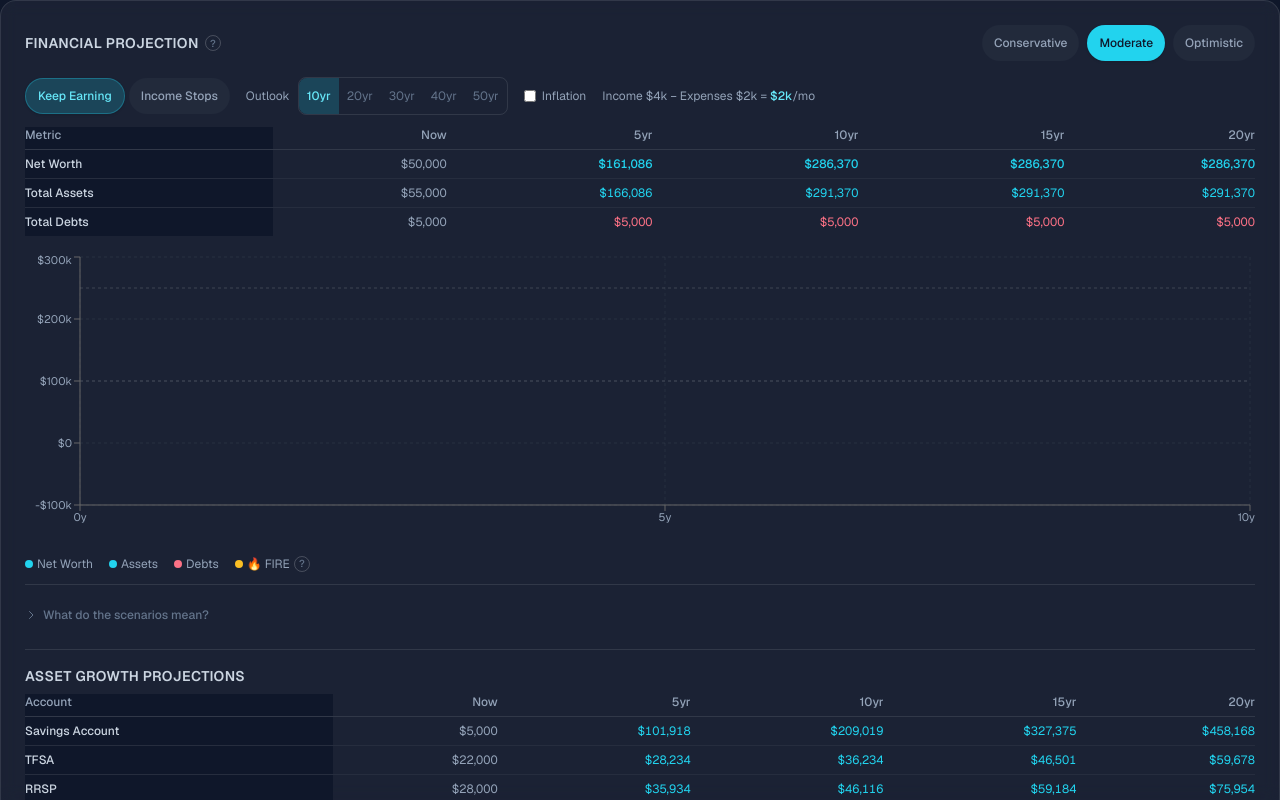
Scenario: Unified ProjectionChart › shows burndown legend in Income Stops mode
Click the button with test id "mode-income-stops".
click(179, 96)  # box [129,78,230,114]
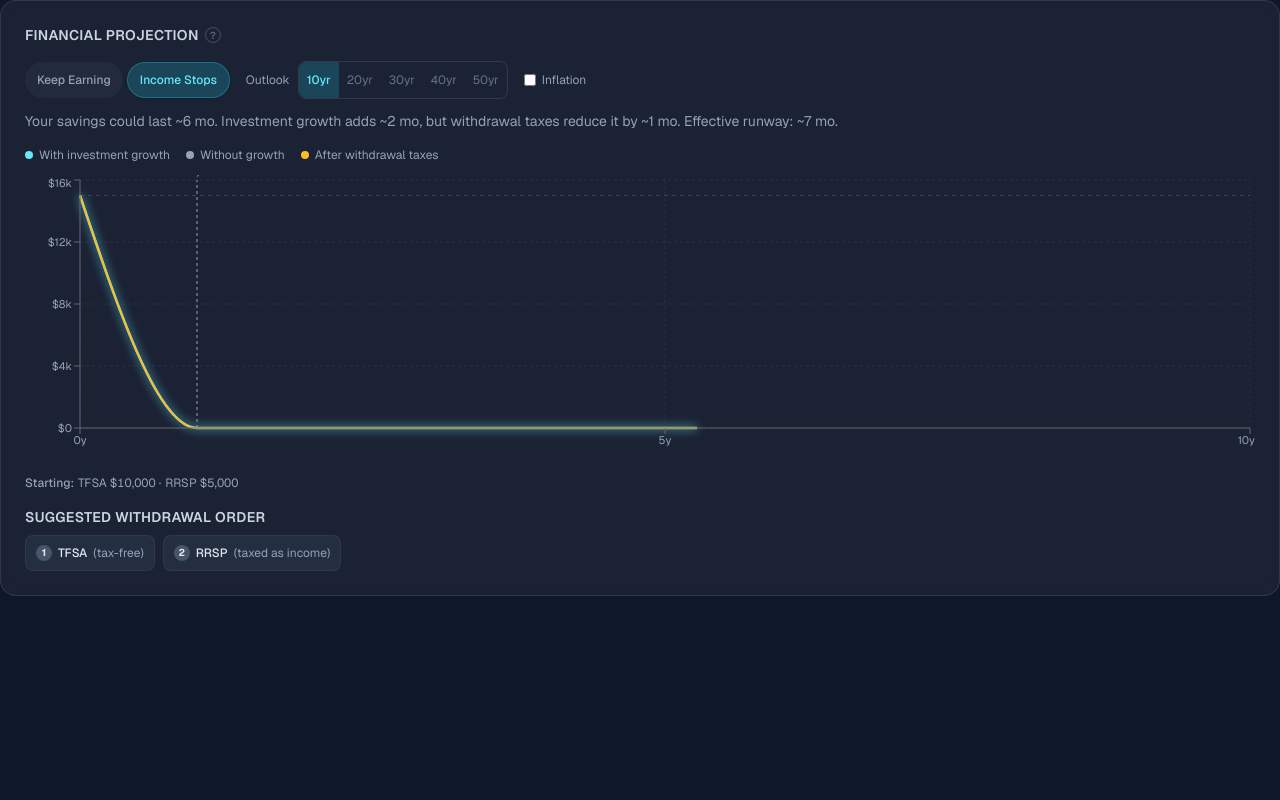
Result: the element with test id "burndown-legend" shows "With investment growth" at [39,147,170,163]
Result: the element with test id "burndown-legend" shows "Without growth" at [200,147,285,163]
Result: the element with test id "burndown-legend" shows "After withdrawal taxes" at [315,147,439,163]
